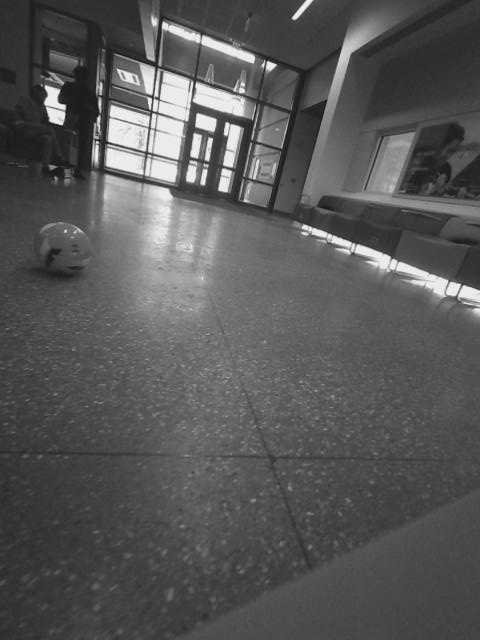ball: (293, 282, 349, 336)
